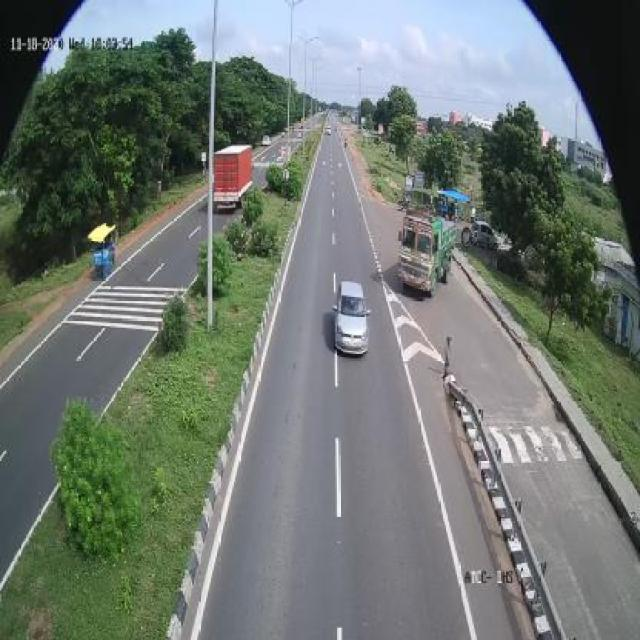car: (334, 276, 371, 362)
